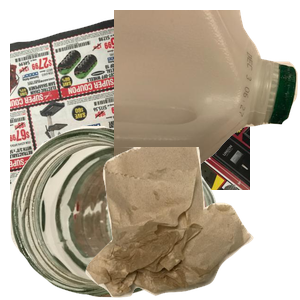glass: (10, 126, 220, 300)
paper: (10, 15, 250, 195)
plastic: (114, 10, 300, 179)
trash: (83, 147, 300, 300)
